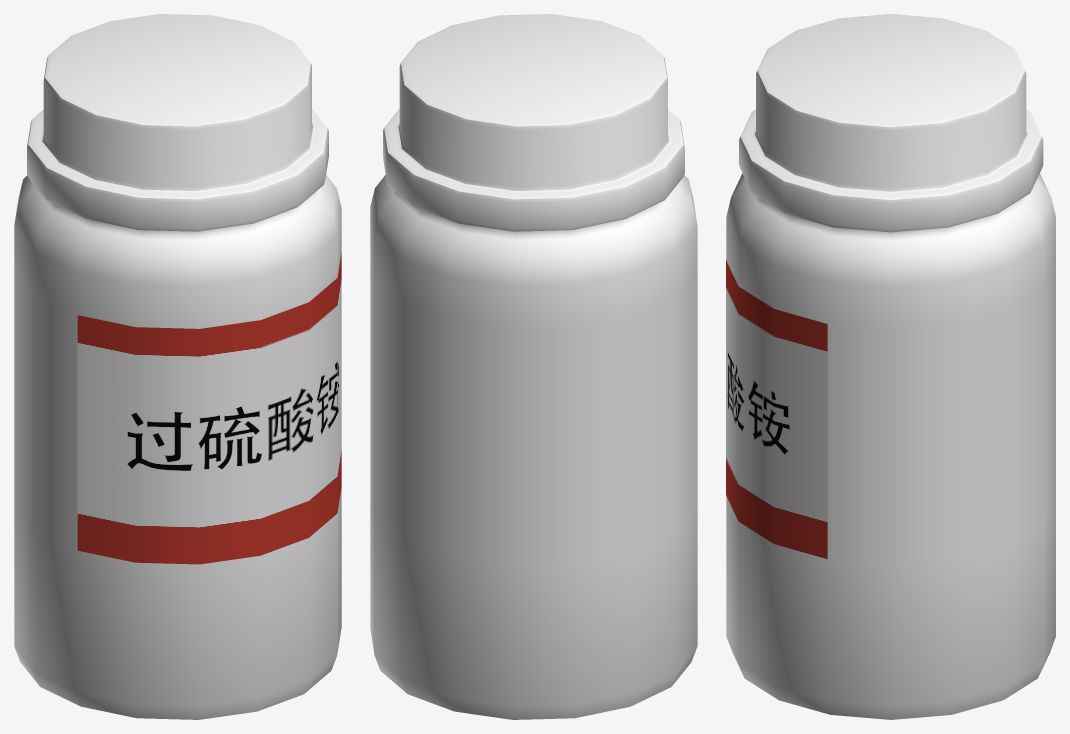
File: 过硫酸铵.glb
3 renders of one model, left to right at view 1: azimuth 30°, elevation 25°; view 2: azimuth 150°, elevation 25°; view 3: azimuth 270°, elevation 25°, orthographic.
Parts seen in each view (by area): view 1: 过硫酸铵, 对象005, Cylinder009; view 2: 过硫酸铵, Cylinder009; view 3: 过硫酸铵, Cylinder009, 对象005.
Boxes of the visible parts, <box> form: 过硫酸铵: <box>14,175,341,719</box>; 对象005: <box>77,252,341,564</box>; Cylinder009: <box>27,14,328,231</box>; 过硫酸铵: <box>370,175,697,719</box>; Cylinder009: <box>383,14,684,231</box>; 过硫酸铵: <box>726,173,1055,719</box>; Cylinder009: <box>739,14,1043,232</box>; 对象005: <box>726,259,827,558</box>.
Bounding box in the file's own units: 0.0694 × 0.1368 × 0.0695.
1 material, 1 textured.
